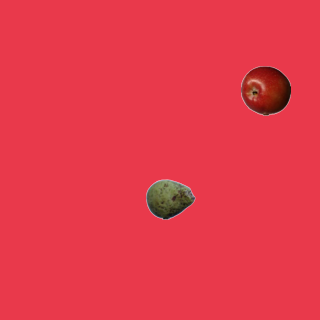Apple Braeburn: (240, 65, 290, 115)
Pear Stone: (145, 174, 195, 224)
